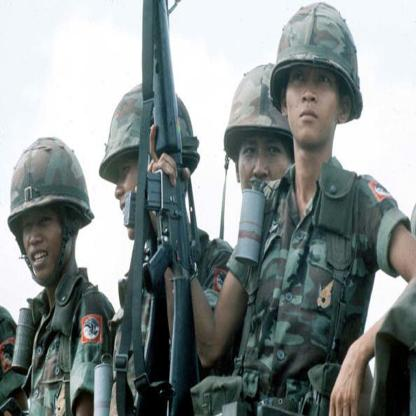Helmet: (3, 146, 91, 288), (270, 0, 363, 124), (98, 83, 200, 178), (223, 59, 293, 165)
